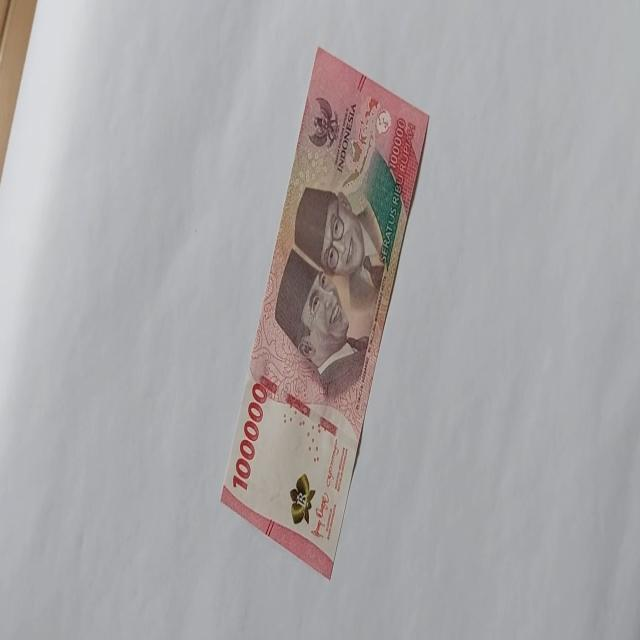seratus ribu rupiah: (219, 46, 430, 580), (273, 183, 385, 398)
